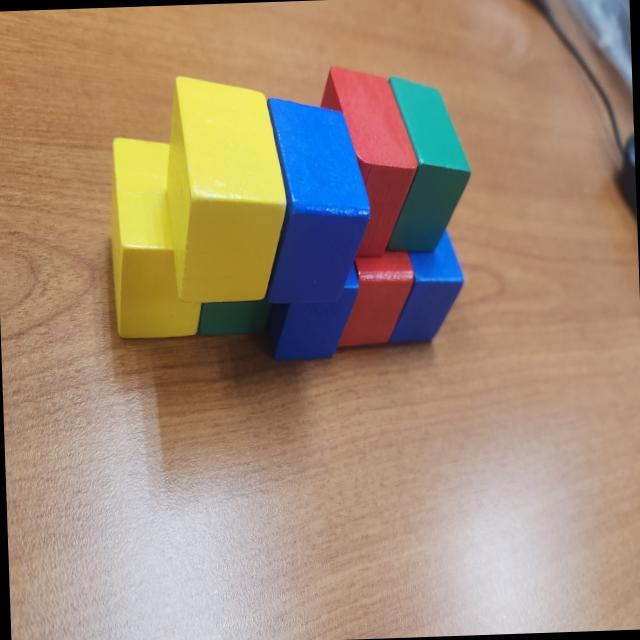blue: (259, 92, 373, 304), (266, 256, 361, 362), (384, 225, 466, 345)
green: (378, 73, 474, 255), (196, 298, 274, 338)
red: (317, 62, 421, 258), (332, 250, 417, 347)
yellow: (162, 71, 290, 304), (107, 133, 203, 340)
